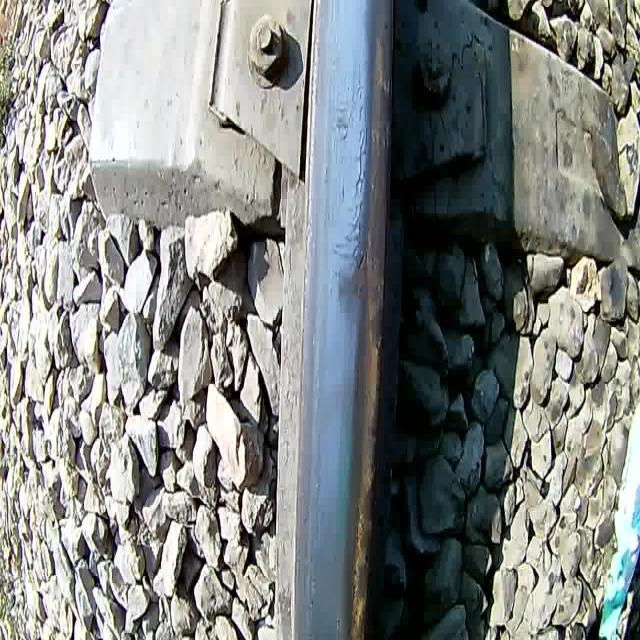Squats: (335, 0, 403, 640)
